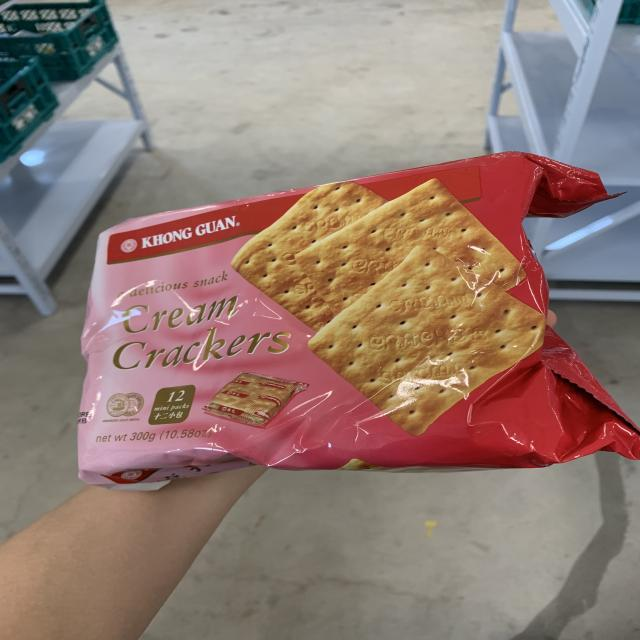object_name: (98, 175, 575, 462)
